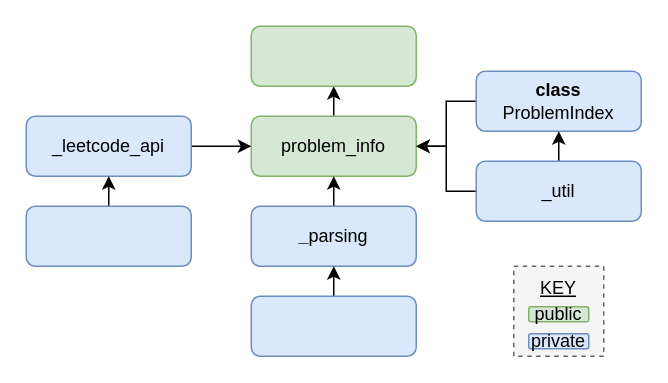
Image size: 668x383. Some labels were removed from this diagram. The centre of each missing label's shape, as x and y in pixels:
_cookies: point 108,235
_func_parsing: point 333,325
main: point 333,55
